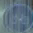bike lane: (1, 3, 31, 32)
